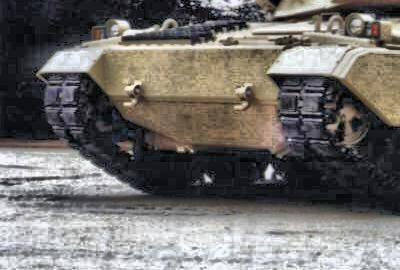tanks: (42, 1, 400, 194)
